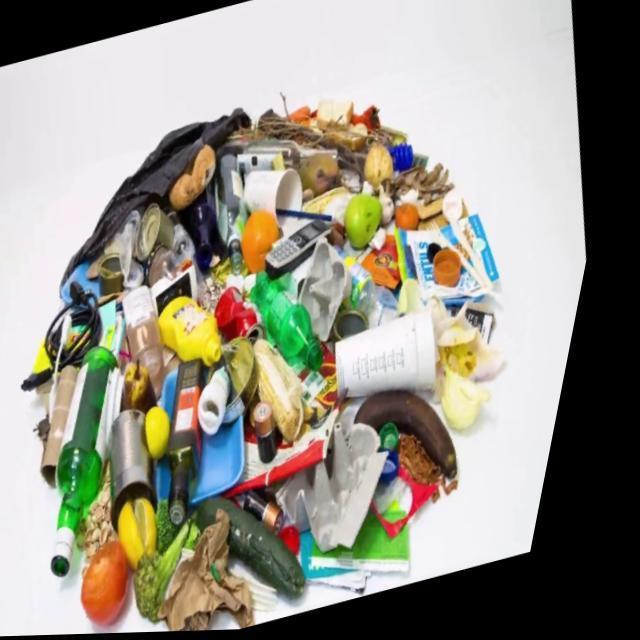Disposable: (350, 314, 451, 402)
E_waste: (37, 283, 115, 391), (275, 223, 340, 281), (214, 367, 246, 437), (265, 492, 304, 536), (270, 402, 295, 466)
Garbage: (37, 100, 518, 633)
Glass_bottle: (73, 346, 132, 578), (186, 361, 219, 526), (175, 211, 225, 313), (222, 156, 257, 275), (225, 139, 308, 176), (196, 191, 226, 273)
Plastic: (209, 418, 263, 507), (397, 424, 418, 486), (443, 250, 472, 290), (176, 369, 192, 419), (174, 456, 191, 502), (395, 147, 420, 173)
Plastic_Bag: (114, 210, 150, 286)
Plastic_Container: (170, 297, 235, 367), (135, 286, 179, 377), (109, 253, 135, 296)
Plastic_Straw: (285, 210, 341, 225)
Plastic_bottle: (262, 272, 337, 373), (348, 250, 410, 331)
Plastic_wraper: (248, 347, 356, 497), (334, 512, 432, 575), (391, 467, 457, 541), (372, 237, 412, 291)
Tin_box: (237, 338, 274, 426), (145, 203, 183, 262), (346, 311, 382, 342)
can: (228, 288, 278, 342)
